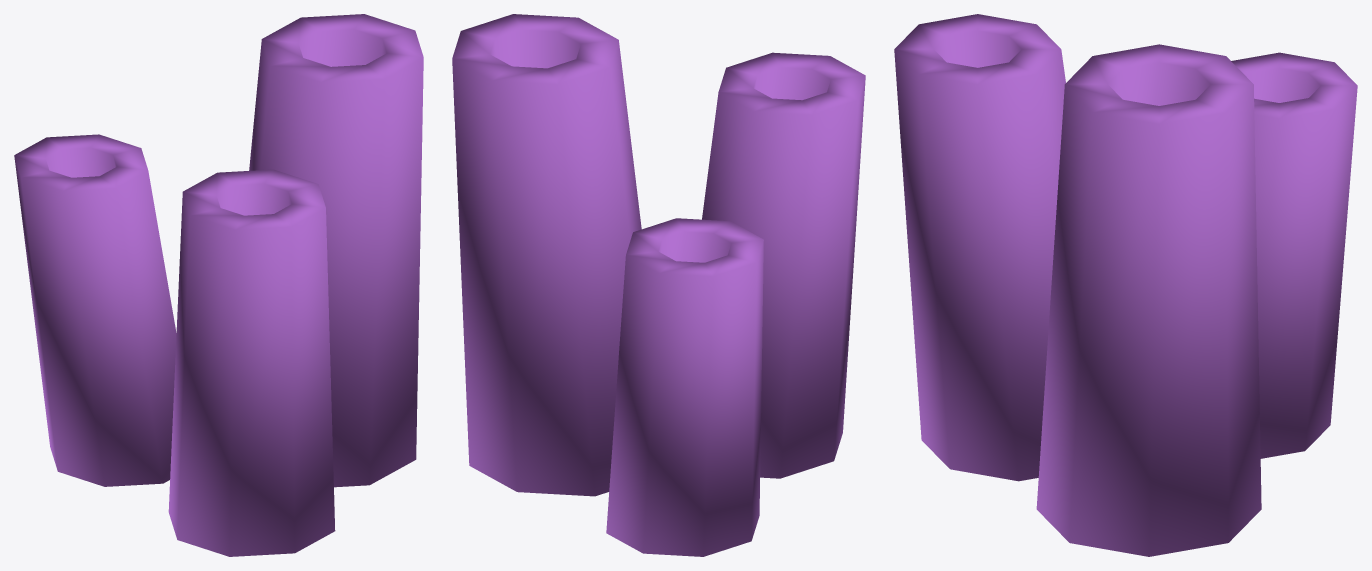
Rendered from Small2.fbx.
The picture shows the model from 3 angles, left to right: view 1: azimuth 30°, elevation 25°; view 2: azimuth 150°, elevation 25°; view 3: azimuth 270°, elevation 25°; orthographic projection. The views are drawn at different scales.
Visible parts, largest first — view 1: Small2; view 2: Small2; view 3: Small2.
Part boxes in pixels (x1,y1,x2,y2): Small2: (14,14,423,556); Small2: (452,14,865,556); Small2: (894,14,1357,556).
Size of the model in its own units: 1.74 by 1.9 by 1.81.
